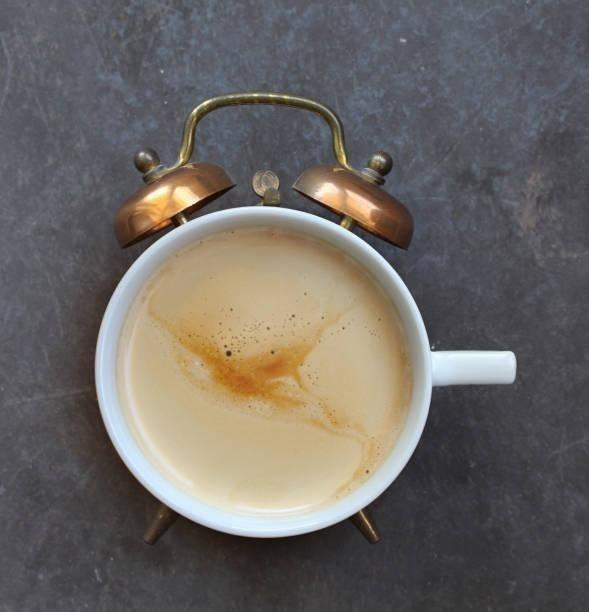cup-handle: (91, 176, 518, 553)
